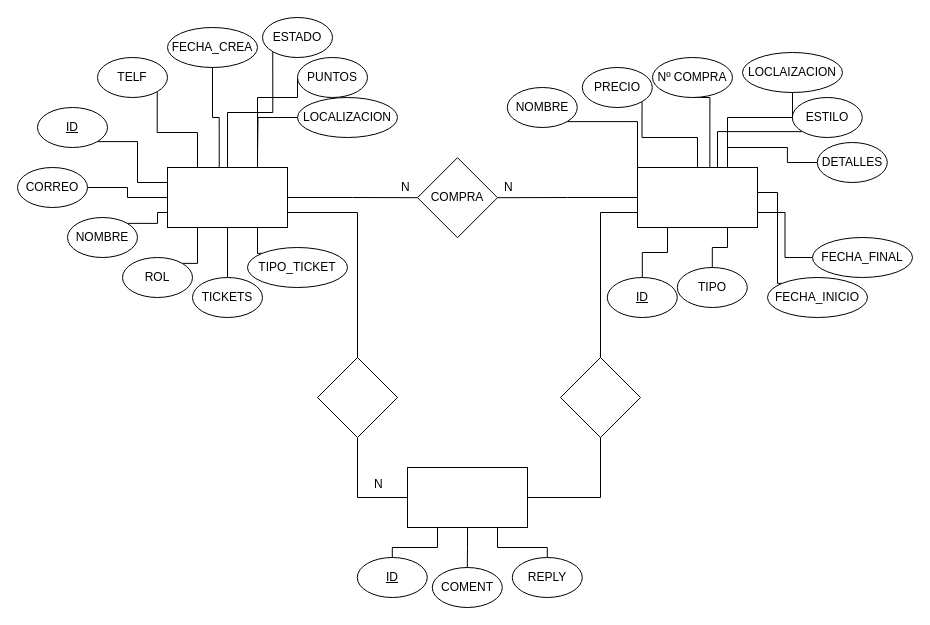
The diagram is 930 pixels wide and 625 high, and some of its shapes have lost their labels. The centre of each missing label's shape, as x and y in pixels:
"COMENTARIOS" goes at (467,497).
"PLAN" goes at (697,197).
"USUARIO" goes at (227,197).
